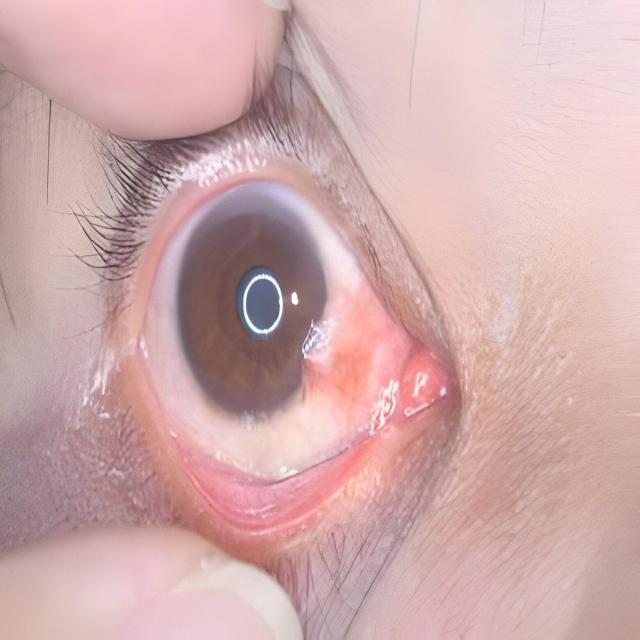Pterygium: (280, 255, 422, 458)
